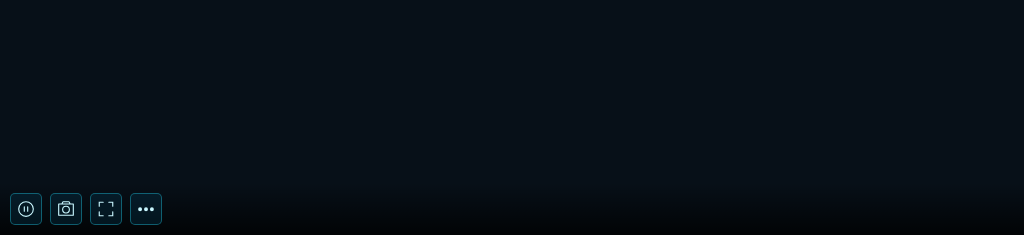
Scenario: PlayerControls › 按单路配置分别渲染主操作和竖向扩展操作
This screenshot has width=1024, height=235.
Expected: the number of icons with class "control-icon" is 4, [17,200,35,218]; [57,200,75,218]; [97,200,115,218]; [137,200,155,218]
Click the button named "更多操作": (146, 209) [130,193,162,225]
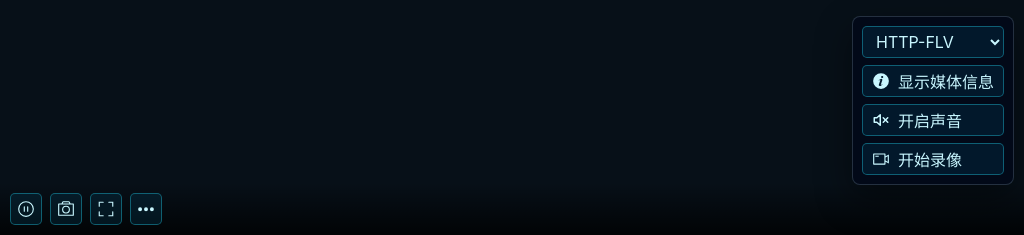
Result: the element with class "overflow-menu" is shown at [852,16,1014,185]
Result: the dropdown named "媒体输出格式" is shown at [862,26,1004,58]
